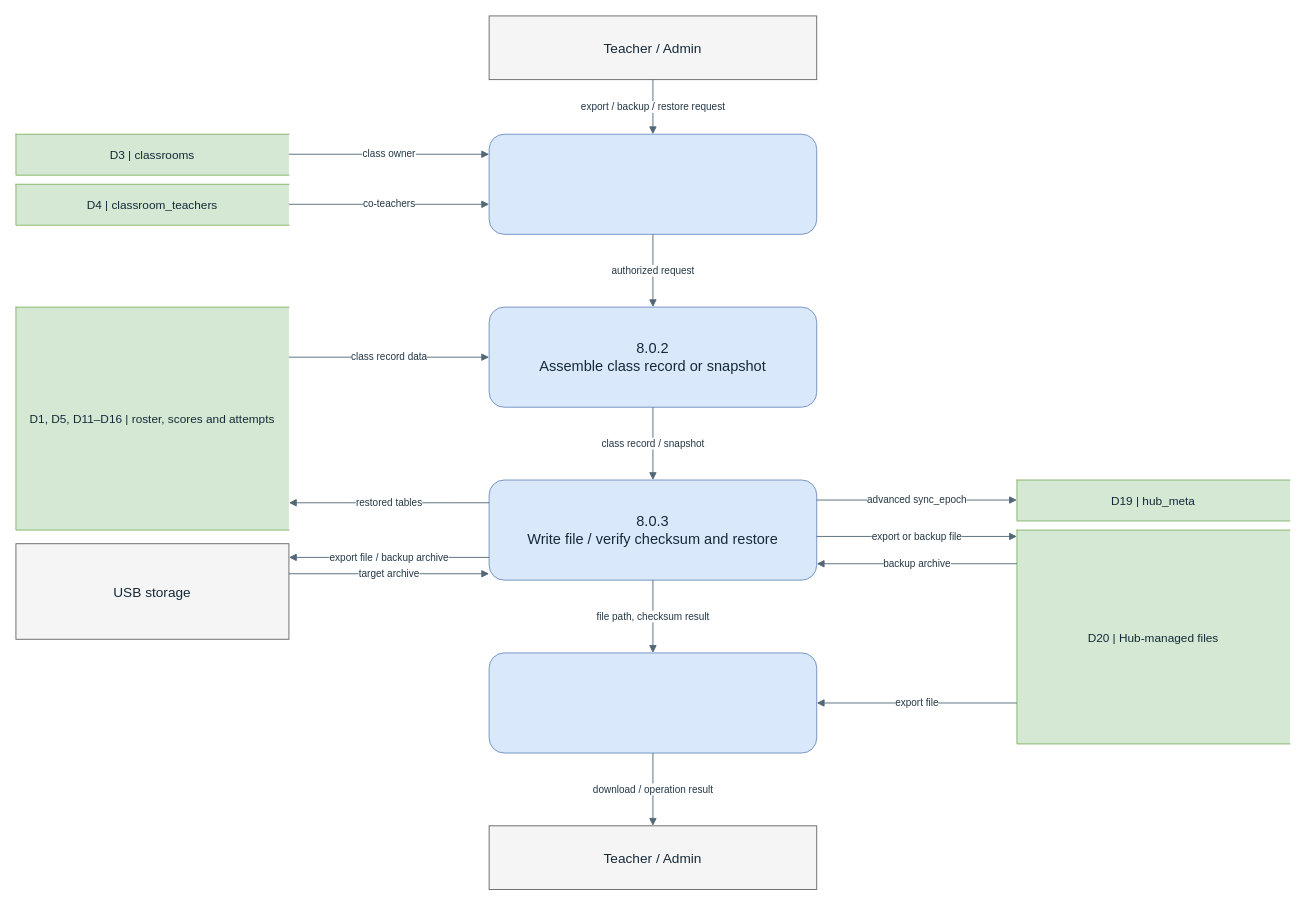
The diagram is 1306 pixels wide and 905 high, and some of its shapes have lost their labels. Here are the shapes that lost their labels. From the top down, the centre of each, then its label:
At (652,183): "8.0.1 Authorize export or backup request".
At (652,702): "8.0.4 Return download or operation result".
